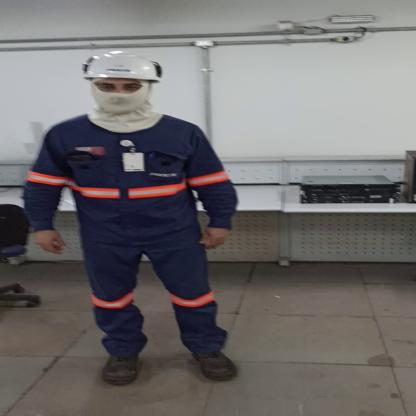Balaclava: (77, 77, 168, 132)
Capacete: (74, 49, 169, 83)
